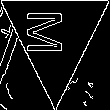M_E: (33, 14, 77, 60)
